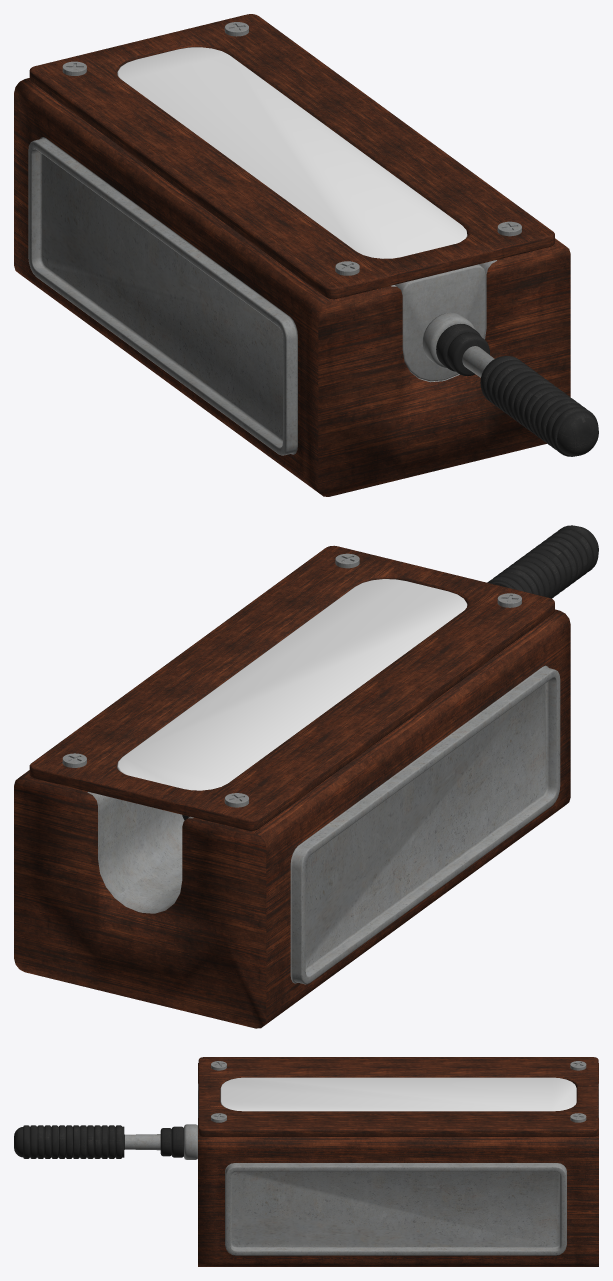
3 views of the same model, one above another, from view 1: azimuth 30°, elevation 25°; view 2: azimuth 150°, elevation 25°; view 3: azimuth 270°, elevation 25° (orthographic). The views are drawn at different scales.
Visible parts, largest first — view 1: Box, Handel; view 2: Box, Handel; view 3: Box, Handel.
Boxes of the visible parts, x1,y1,x2,y2 form: Box: (14,14,570,496); Handel: (436,324,598,456); Box: (14,545,570,1028); Handel: (182,525,598,820); Box: (184,1057,598,1266); Handel: (14,1125,183,1158).
Size of the model in its own units: 652 by 479 by 1829.
